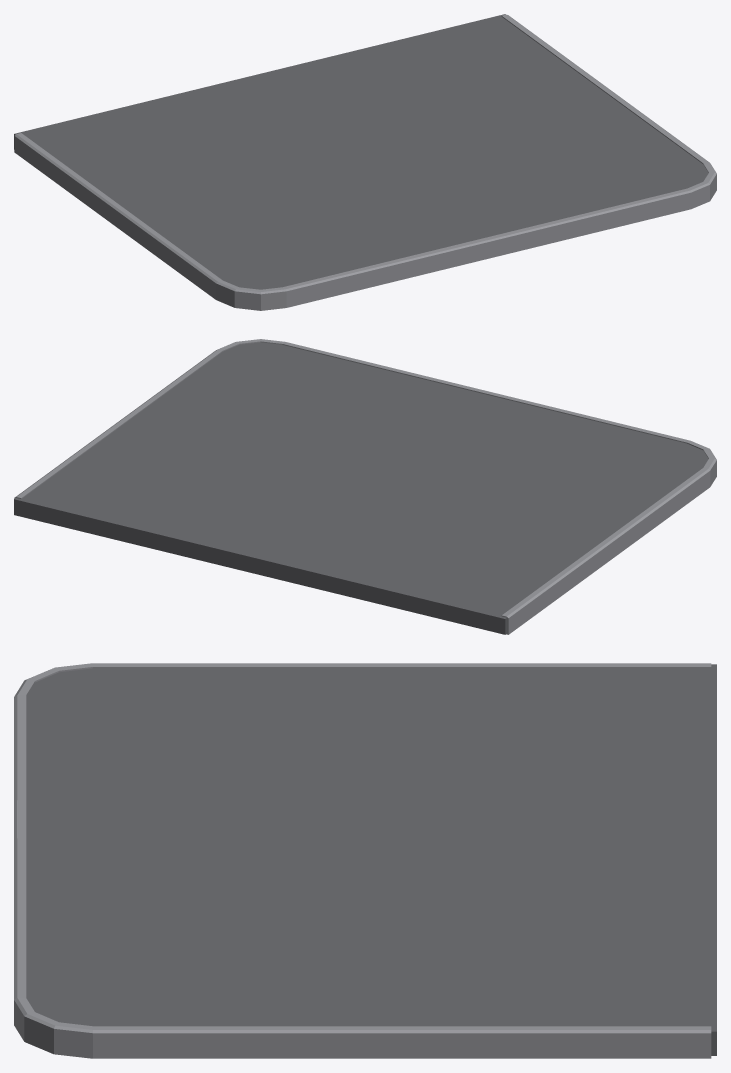
The model's file is pavement.fbx.
3 views of the same model, one above another, from view 1: azimuth 30°, elevation 25°; view 2: azimuth 150°, elevation 25°; view 3: azimuth 270°, elevation 25° (orthographic). The views are drawn at different scales.
Parts seen in each view (by area): view 1: polySurface1950; view 2: polySurface1950; view 3: polySurface1950.
Part boxes in pixels (x1=…): polySurface1950: x1=14, y1=14, x2=716, y2=310; polySurface1950: x1=14, y1=339, x2=716, y2=634; polySurface1950: x1=14, y1=663, x2=716, y2=1058.
Size of the model in its own units: 3.67 by 0.1268 by 2.95.
